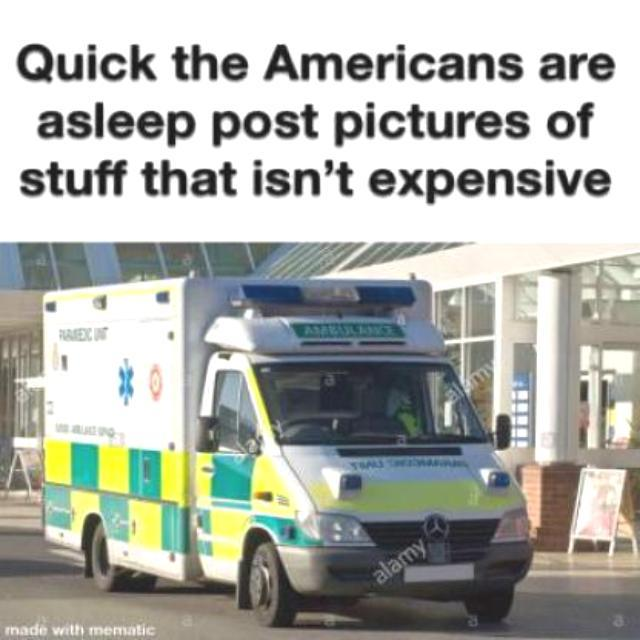emergency-vehicle: (41, 276, 533, 628)
